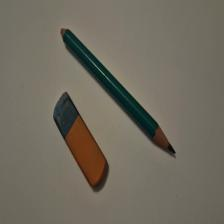eraser: (54, 92, 109, 188)
pencil: (61, 28, 177, 155)
